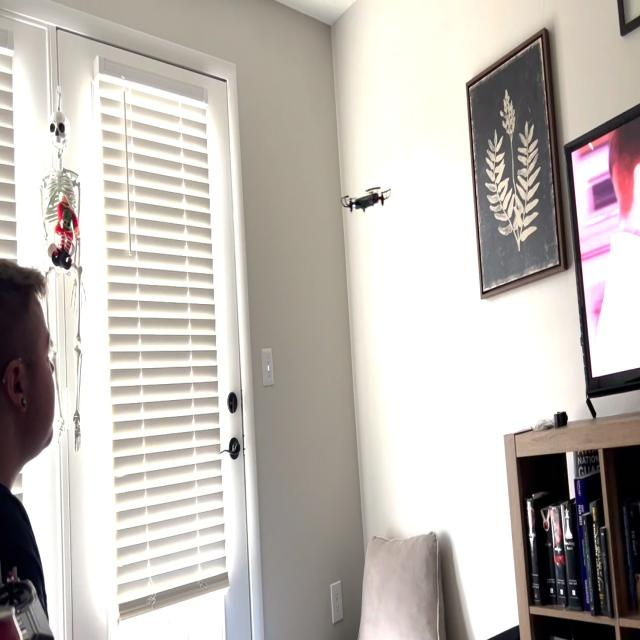drone: (335, 166, 394, 222)
